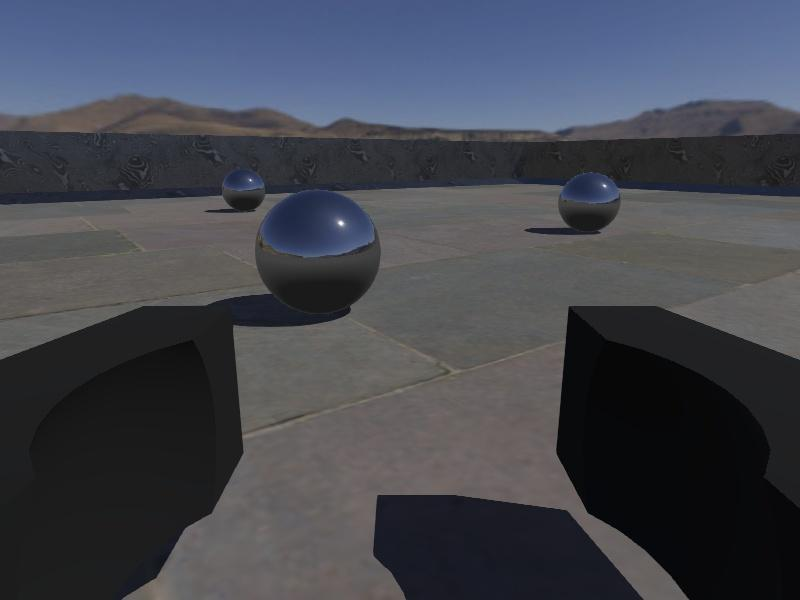steel ball: (254, 188, 382, 317), (558, 171, 622, 233), (222, 167, 265, 212)
